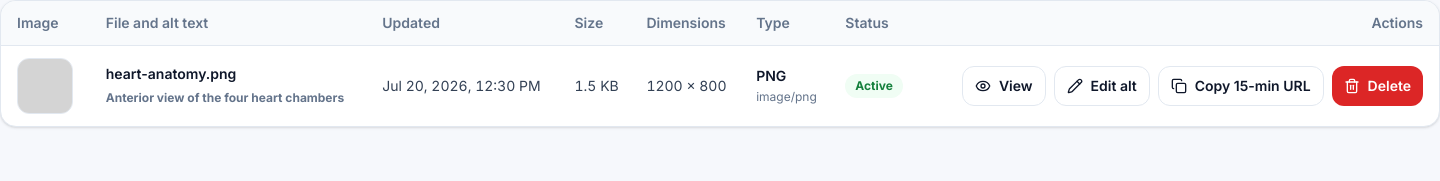
Test: copies the server-signed URL with clear 15-minute expiry guidance
Click the button with aria-label "Copy signed URL for heart-anatomy.png". click: (1241, 86)
box: [1158,66,1324,106]
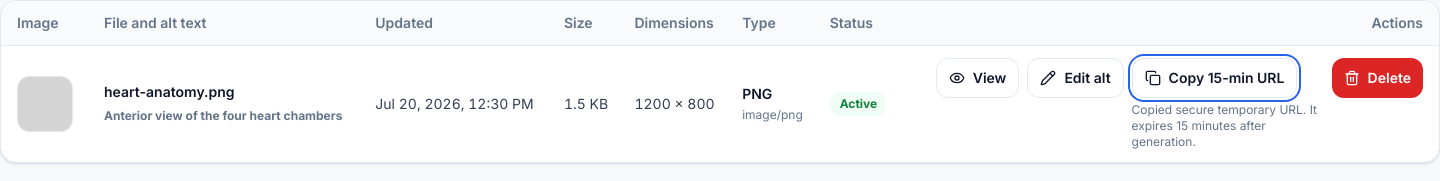
Now the message reads "Copied secure temporary URL. It expires 15 minutes after generation.", box [1132,102,1317,149]
